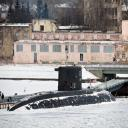submarine: (8, 67, 117, 113)
